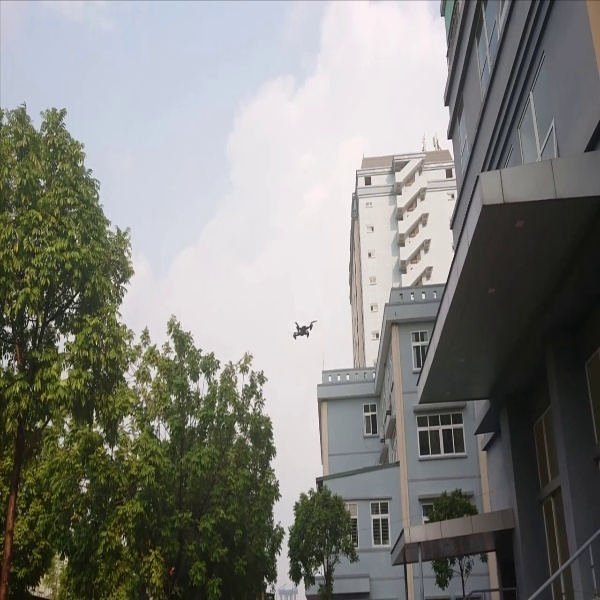drone: (283, 311, 322, 355)
